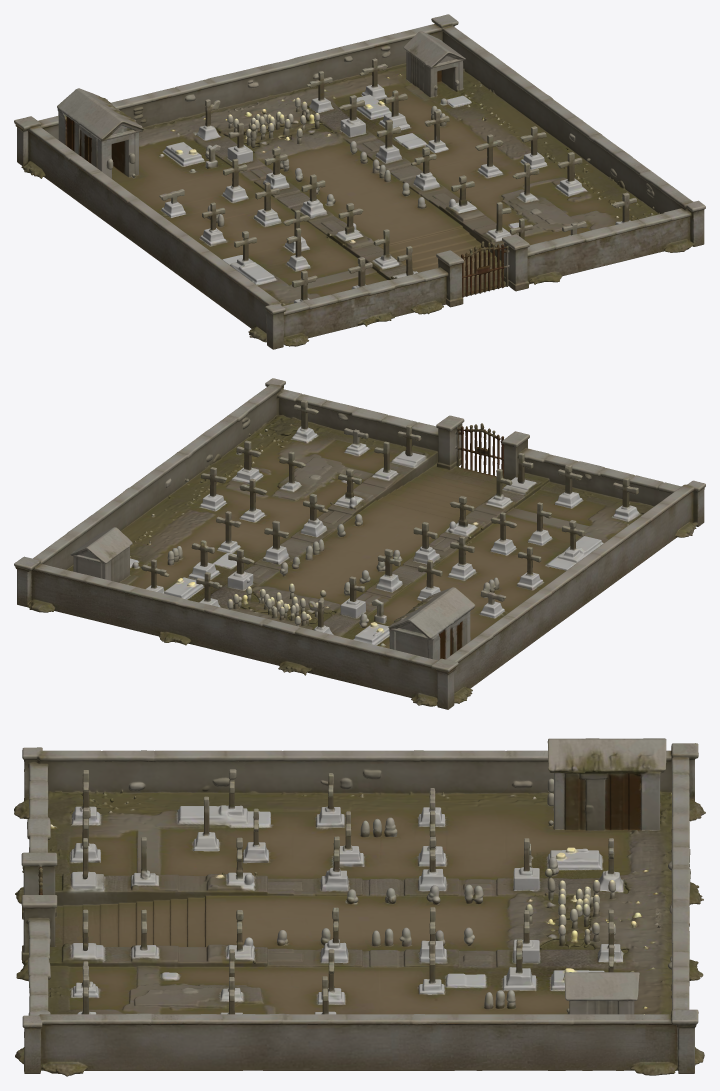
The model's file is 32-las-lucecitas-del-cementerio-de-los-virulientos-optimized.glb.
3 views of the same model, one above another, from view 1: azimuth 30°, elevation 25°; view 2: azimuth 150°, elevation 25°; view 3: azimuth 270°, elevation 25° (orthographic). The views are drawn at different scales.
Visible parts, largest first — view 1: tripo_node_574651c4-660c-4c8e-94a7-a69bb7afef1a; view 2: tripo_node_574651c4-660c-4c8e-94a7-a69bb7afef1a; view 3: tripo_node_574651c4-660c-4c8e-94a7-a69bb7afef1a.
Boxes of the visible parts, box(x1,y1,x2,y2) form: tripo_node_574651c4-660c-4c8e-94a7-a69bb7afef1a: box(14, 14, 705, 349); tripo_node_574651c4-660c-4c8e-94a7-a69bb7afef1a: box(14, 378, 705, 709); tripo_node_574651c4-660c-4c8e-94a7-a69bb7afef1a: box(14, 738, 705, 1076).
Size of the model in its own units: 0.9655 by 0.1466 by 1.
Materials: 1 (1 with a texture image).
